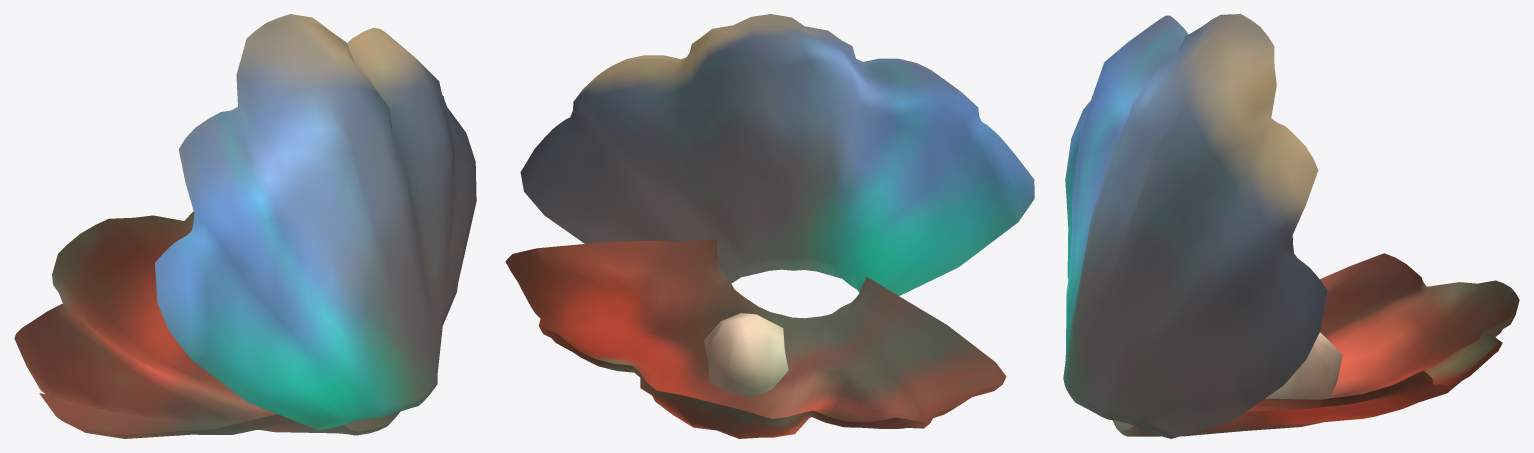
File: Beach_Clam.glb
3 renders of one model, left to right at view 1: azimuth 30°, elevation 25°; view 2: azimuth 150°, elevation 25°; view 3: azimuth 270°, elevation 25°, orthographic. The views are drawn at different scales.
Parts seen in each view (by area): view 1: Object_2.002; view 2: Object_2.002; view 3: Object_2.002.
Part boxes in pixels (x1,y1,x2,y2): Object_2.002: (14, 14, 476, 438); Object_2.002: (505, 14, 1034, 438); Object_2.002: (1063, 14, 1519, 438).
Size of the model in its own units: 21.78 by 17.24 by 18.29.
Materials: 1 (1 with a texture image).
